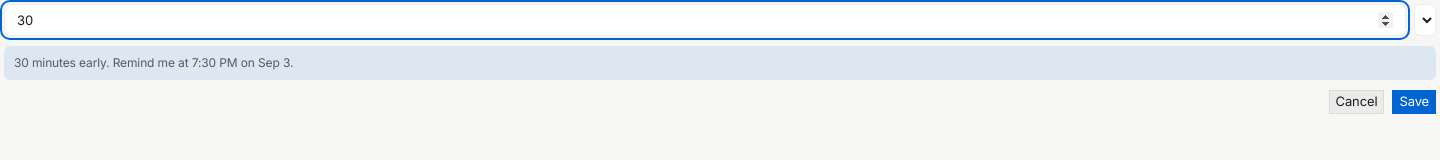
the preview (§6.4) › writes one of something in the singular
Select "Hour" in the dropdown named "Unit" at (1425, 20), box [1414,4,1436,36]
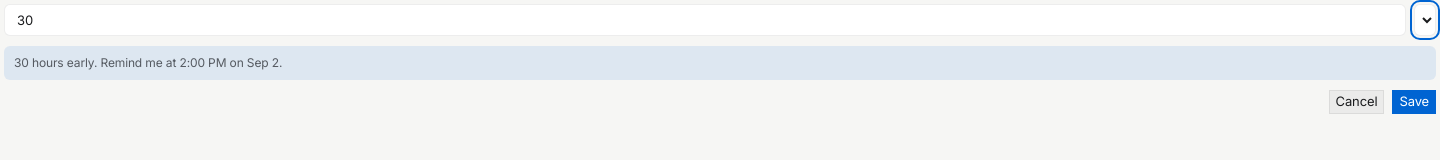
Replace the text in the number field named "How many" with "1" at (705, 20), box [4,4,1406,36]
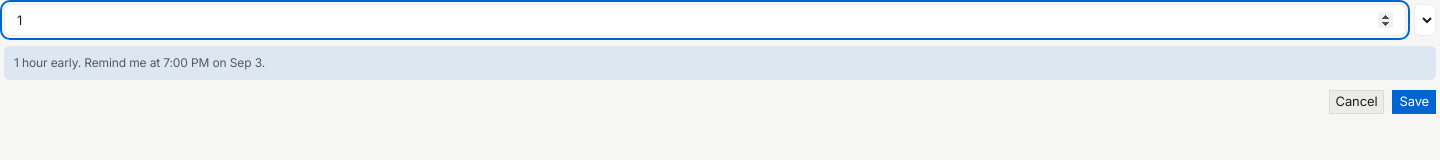
Check: the text "1 hour early. Remind me at 7:00 PM on Sep 3." is shown, box [4,46,1436,80]
